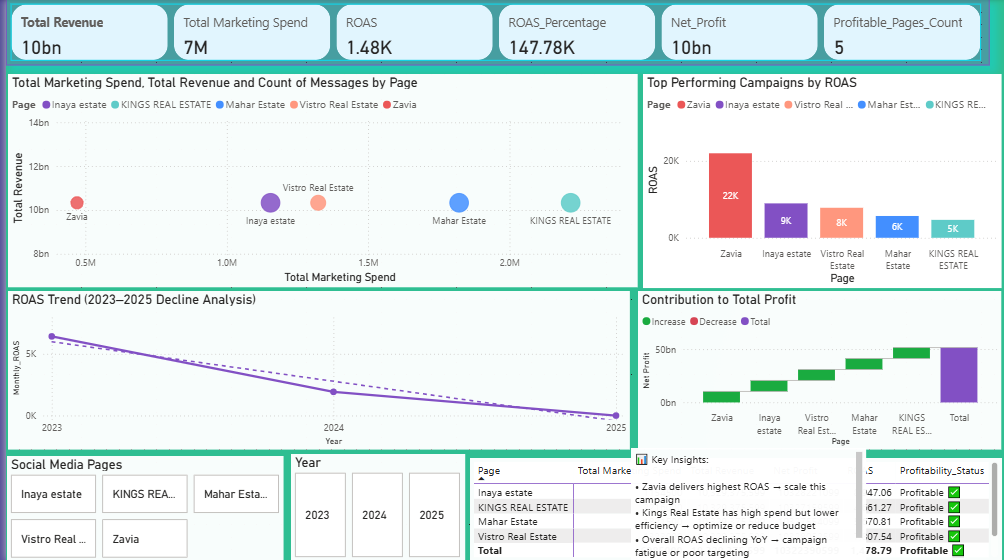

Layout of this report page (visuals, bound fields, positions):
{"tool":"powerbi","page":{"name":"Mkt Campaign Performance & ROI Analysis","canvas":[1280,720],"ordinal":3},"visuals":[{"type":"cardVisual","fields":{"Data":["Calculation.Total Revenue","Calculation.Total Marketing Spend","Calculation.ROAS","Calculation.ROAS_Percentage","Calculation.Net_Profit","Calculation.Profitable_Pages_Count"]},"box":[0,0,1258.7,85.3],"z":0},{"type":"lineChart","title":"ROAS Trend (2023–2025 Decline Analysis)","fields":{"Category":["Sheet2.Month_Year.Variation.Date Hierarchy.Year","Sheet2.Month_Year.Variation.Date Hierarchy.Quarter","Sheet2.Month_Year.Variation.Date Hierarchy.Month","Sheet2.Month_Year.Variation.Date Hierarchy.Day"],"Y":["Calculation.Monthly_ROAS"]},"box":[2.9,373.9,796.3,202.6],"z":1000},{"type":"scatterChart","fields":{"X":["Calculation.Total Marketing Spend"],"Series":["Sheet2.Page"],"Y":["Calculation.Total Revenue"],"Size":["CountNonNull(Sheet2.Messages)"]},"box":[2.9,96,805.8,273.5],"z":2000},{"type":"columnChart","title":"Top Performing Campaigns by ROAS","fields":{"Category":["Sheet2.Page"],"Y":["Calculation.ROAS"],"Series":["Sheet2.Page"]},"box":[814.8,95.6,459.5,274],"z":3000},{"type":"pivotTable","fields":{"Rows":["Sheet2.Page"],"Values":["Calculation.Total Marketing Spend","Calculation.Total Revenue","Calculation.Net Profit","Calculation.ROAS","Calculation.Profitability_Status"]},"box":[593.5,588.2,681.1,132.3],"z":4000},{"type":"waterfallChart","title":"Contribution to Total Profit","fields":{"Category":["Sheet2.Page"],"Y":["Calculation.Net Profit"]},"box":[809.1,373.9,465.2,202.6],"z":5000},{"type":"advancedSlicerVisual","title":"Social Media Pages","fields":{"Values":["Sheet2.Page"]},"box":[1.8,584.6,354,135.9],"z":6000},{"type":"advancedSlicerVisual","fields":{"Values":["Sheet2.Year"]},"box":[364.7,582.8,223.5,137.7],"z":7000},{"type":"textbox","box":[800.6,574.2,300.7,146.7],"z":8000}]}

Visuals, with their boxes in screenshot pixels (x1, y1, x2, y2), scaled from the page's 1280x720 canvas onto the 1004x560 screenshot:
cardVisual - Calculation.Total Revenue x Calculation.Total Marketing Spend: {"left": 0, "top": 0, "right": 987, "bottom": 66}
"ROAS Trend (2023–2025 Decline Analysis)" lineChart: {"left": 2, "top": 291, "right": 627, "bottom": 448}
scatterChart - Calculation.Total Marketing Spend x Sheet2.Page: {"left": 2, "top": 75, "right": 634, "bottom": 287}
"Top Performing Campaigns by ROAS" columnChart: {"left": 639, "top": 74, "right": 1000, "bottom": 287}
pivotTable - Sheet2.Page x Calculation.Total Marketing Spend: {"left": 466, "top": 457, "right": 1000, "bottom": 559}
"Contribution to Total Profit" waterfallChart: {"left": 635, "top": 291, "right": 1000, "bottom": 448}
"Social Media Pages" advancedSlicerVisual: {"left": 1, "top": 455, "right": 279, "bottom": 559}
advancedSlicerVisual - Sheet2.Year: {"left": 286, "top": 453, "right": 461, "bottom": 559}
textbox: {"left": 628, "top": 447, "right": 864, "bottom": 559}
